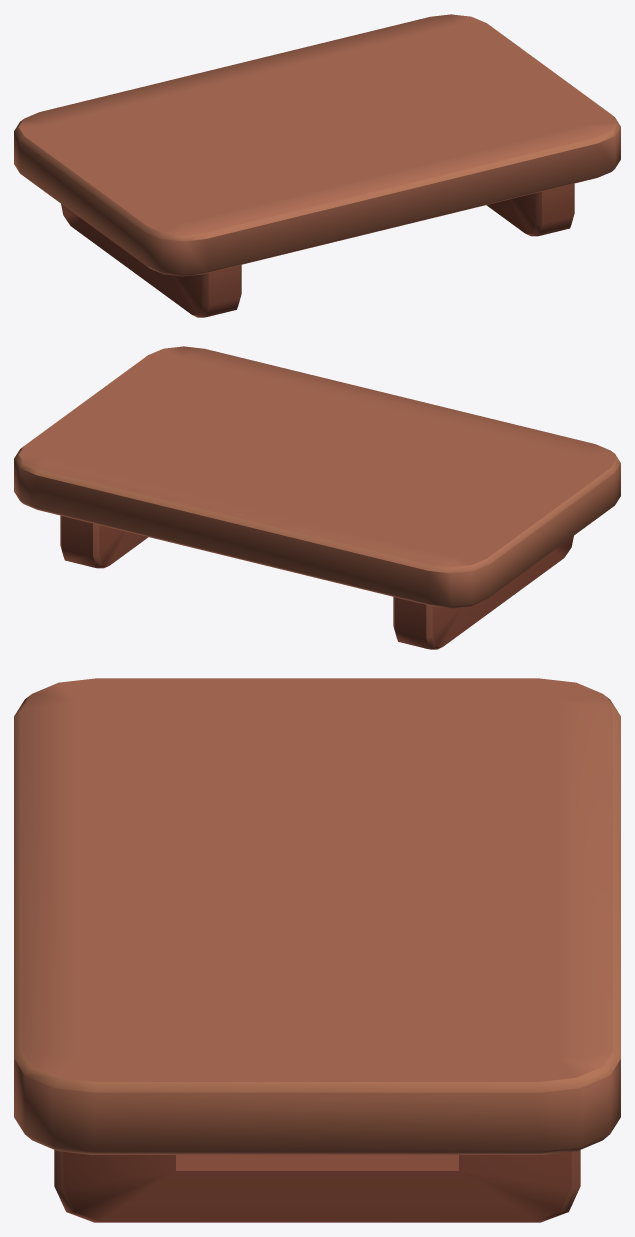
File: coffee-table.glb
3 renders of one model, top to bottom at view 1: azimuth 30°, elevation 25°; view 2: azimuth 150°, elevation 25°; view 3: azimuth 270°, elevation 25°, orthographic. The views are drawn at different scales.
Parts seen in each view (by area): view 1: table_low; view 2: table_low; view 3: table_low.
Boxes of the visible parts, x1=… form: table_low: x1=14, y1=14, x2=620, y2=317; table_low: x1=14, y1=346, x2=620, y2=649; table_low: x1=14, y1=678, x2=620, y2=1222.
Size of the model in its own units: 2.4 by 0.4998 by 1.5.
1 material, 1 textured.
